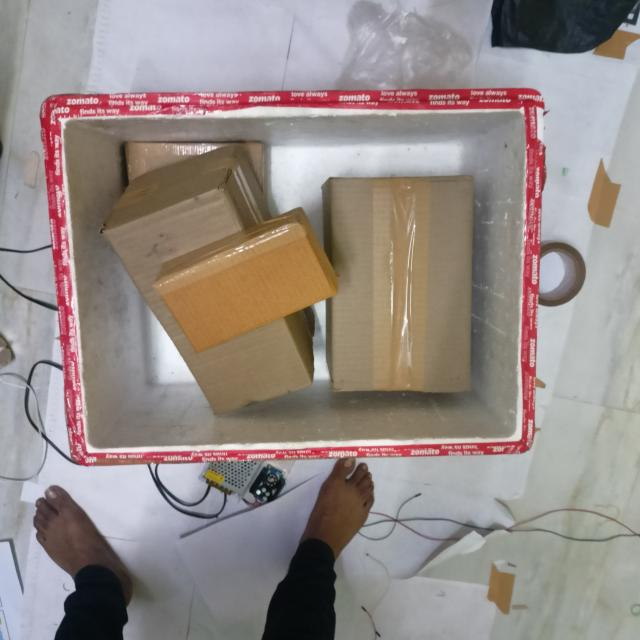box: (331, 181, 473, 393), (154, 225, 341, 353)
